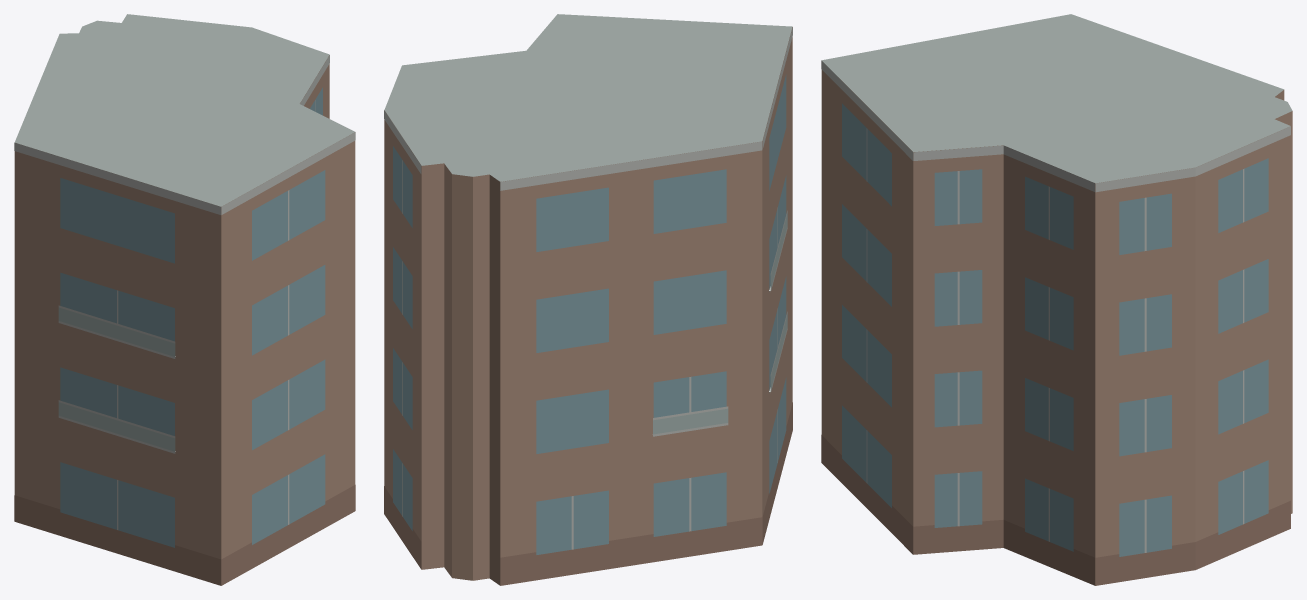
Rendered from survey-upis-32523369.glb.
3 views of the same model, side by side, from view 1: azimuth 30°, elevation 25°; view 2: azimuth 150°, elevation 25°; view 3: azimuth 270°, elevation 25° (orthographic). The views are drawn at different scales.
Parts seen in each view (by area): view 1: survey-upis-32523369.tmp; view 2: survey-upis-32523369.tmp; view 3: survey-upis-32523369.tmp.
Part boxes in pixels (bbox=[...]): survey-upis-32523369.tmp: bbox=[14, 14, 355, 585]; survey-upis-32523369.tmp: bbox=[384, 14, 792, 585]; survey-upis-32523369.tmp: bbox=[821, 14, 1292, 585].
Bounding box in the file's own units: 9.84 × 10.9 × 11.57.
